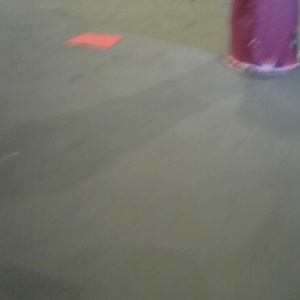right: (220, 1, 300, 75)
